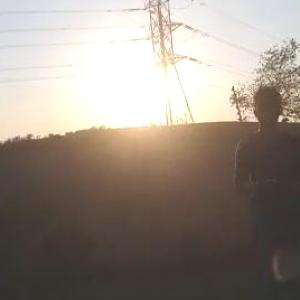follow: (229, 80, 300, 299)
